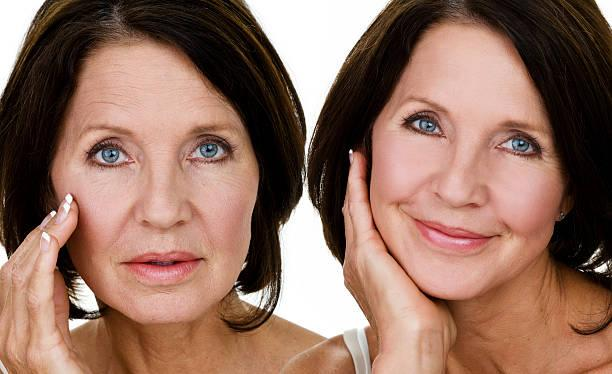Dry-Skin: (82, 56, 215, 112), (195, 172, 259, 250)
